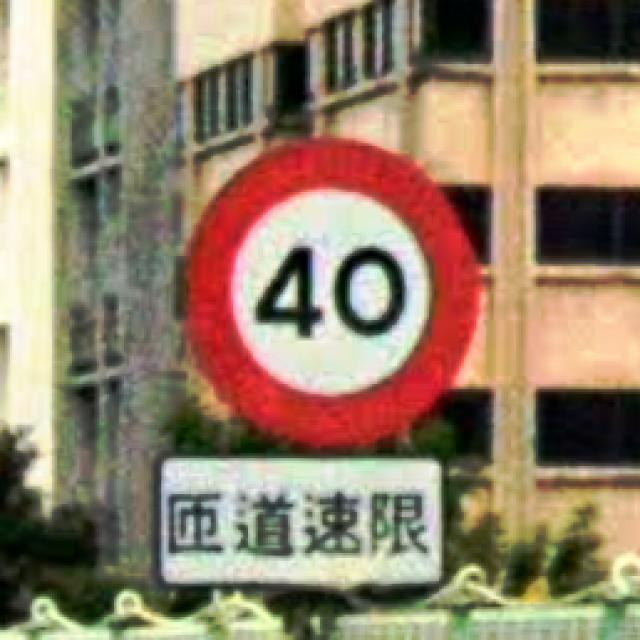max40: (179, 133, 486, 451)
